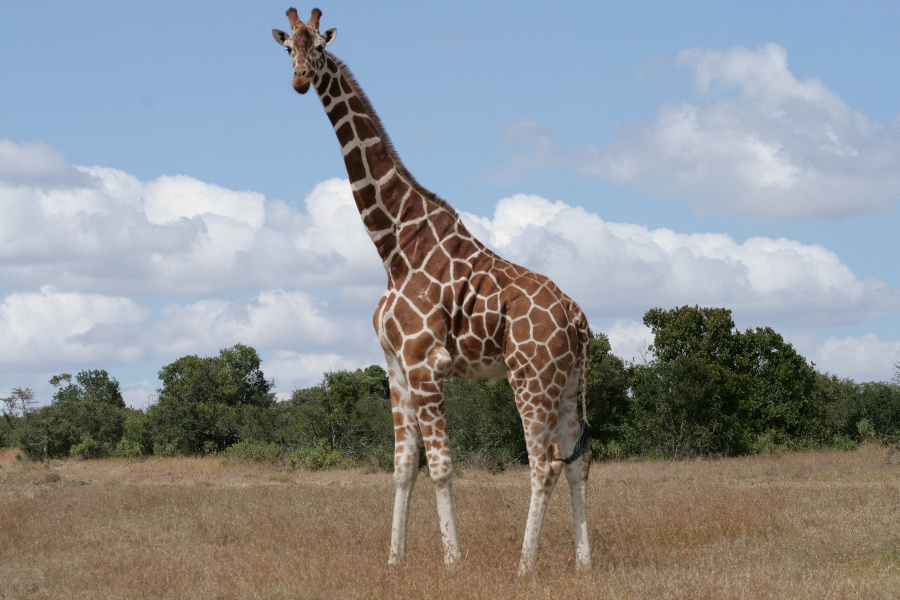giraffe: (259, 0, 628, 586)
